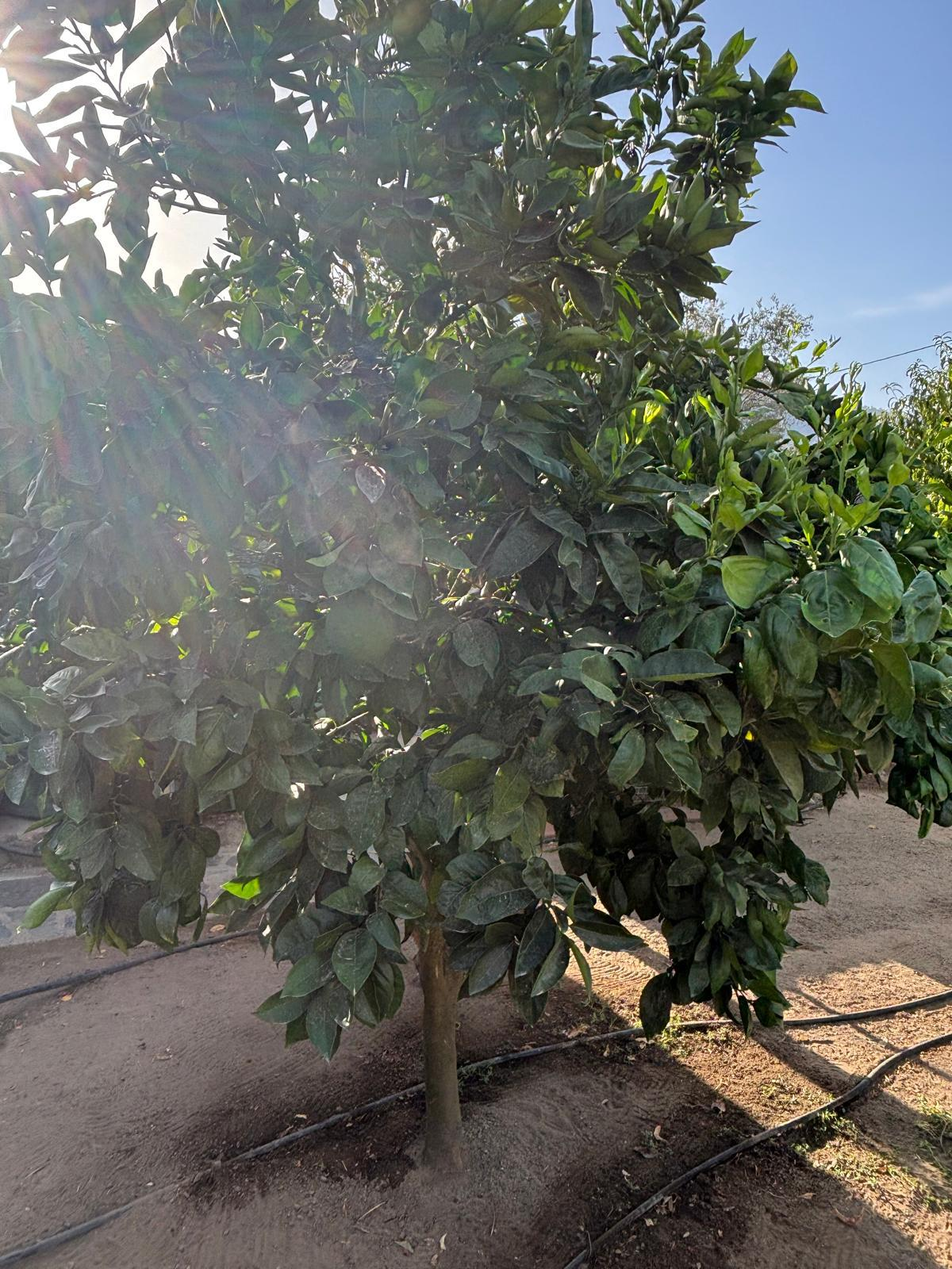naranjo: (21, 59, 891, 1225)
